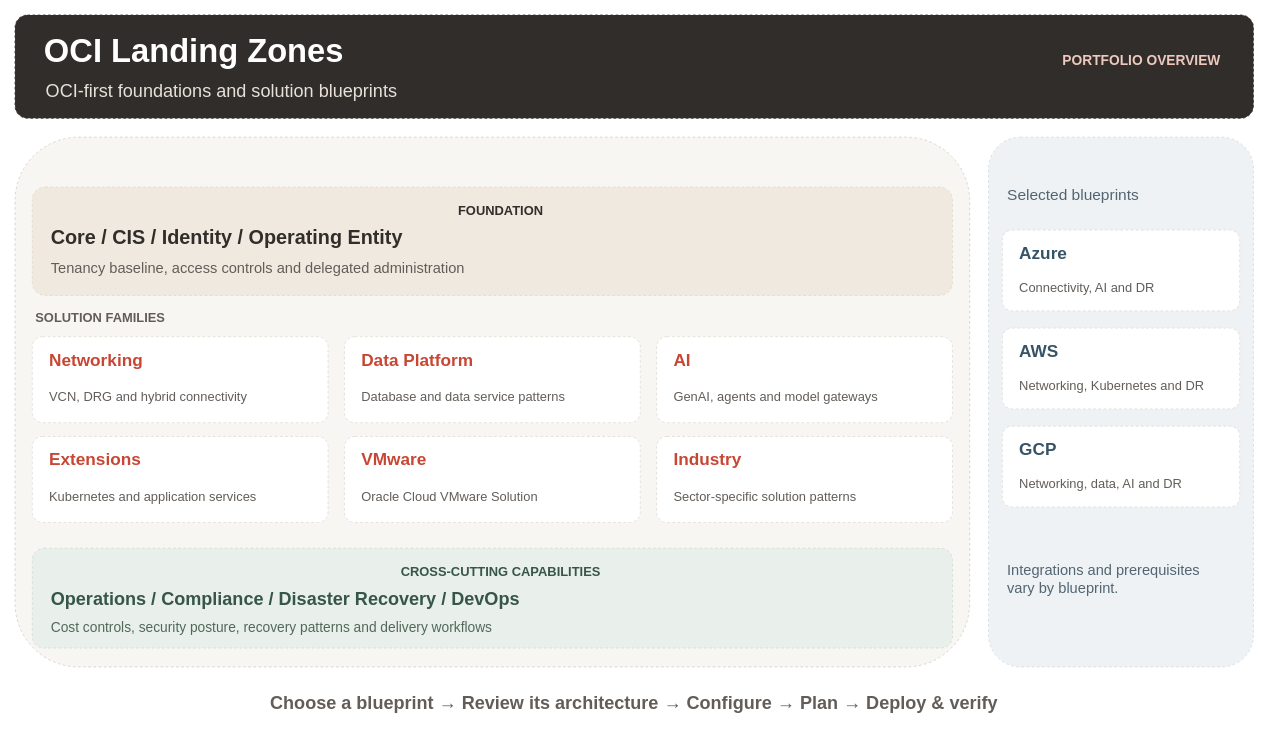
The diagram is 1269 pixels wide and 732 high, and some of its shapes have lost their labels. Here are the shapes that lost their labels. From the top down, the box of each, then its label:
(14, 136, 970, 667): ORACLE CLOUD INFRASTRUCTURE
(988, 136, 1253, 667): MULTICLOUD
